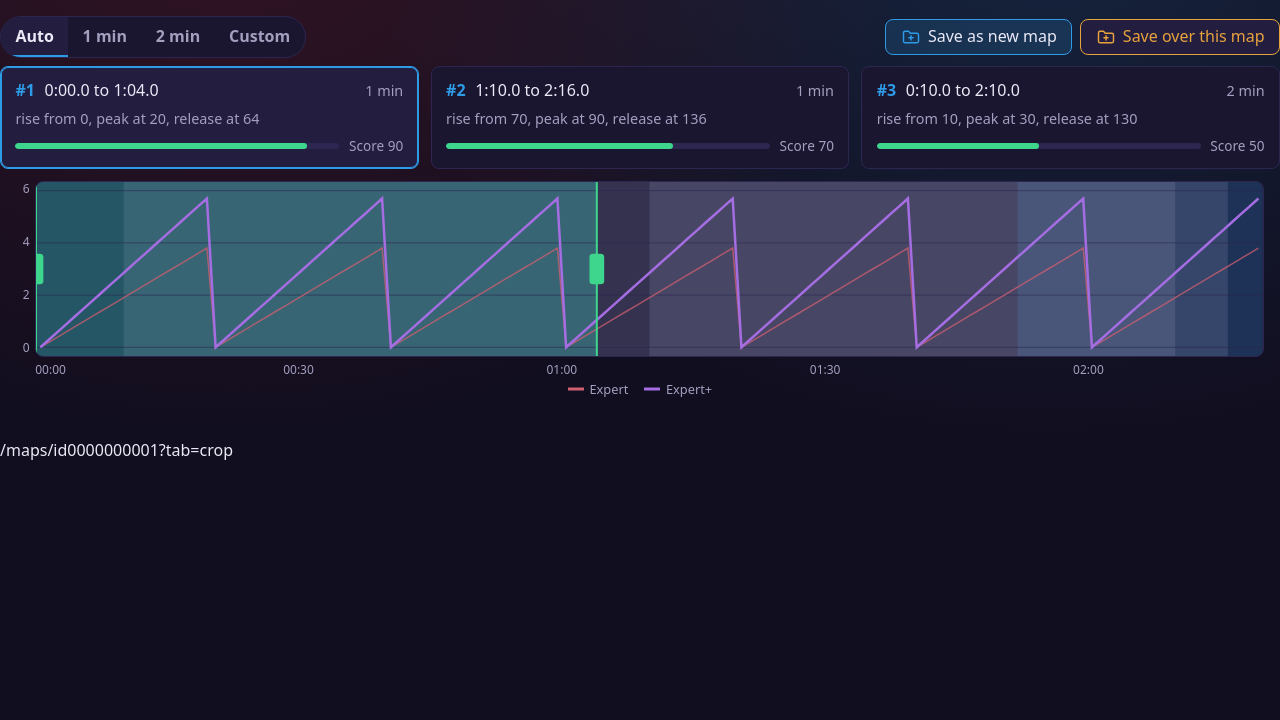
Test: after a crop finishes › the crop state resets: old proposals are gone until new ones load
Click the button "Save over this map" at (1180, 37), box [1080,19,1279,55]
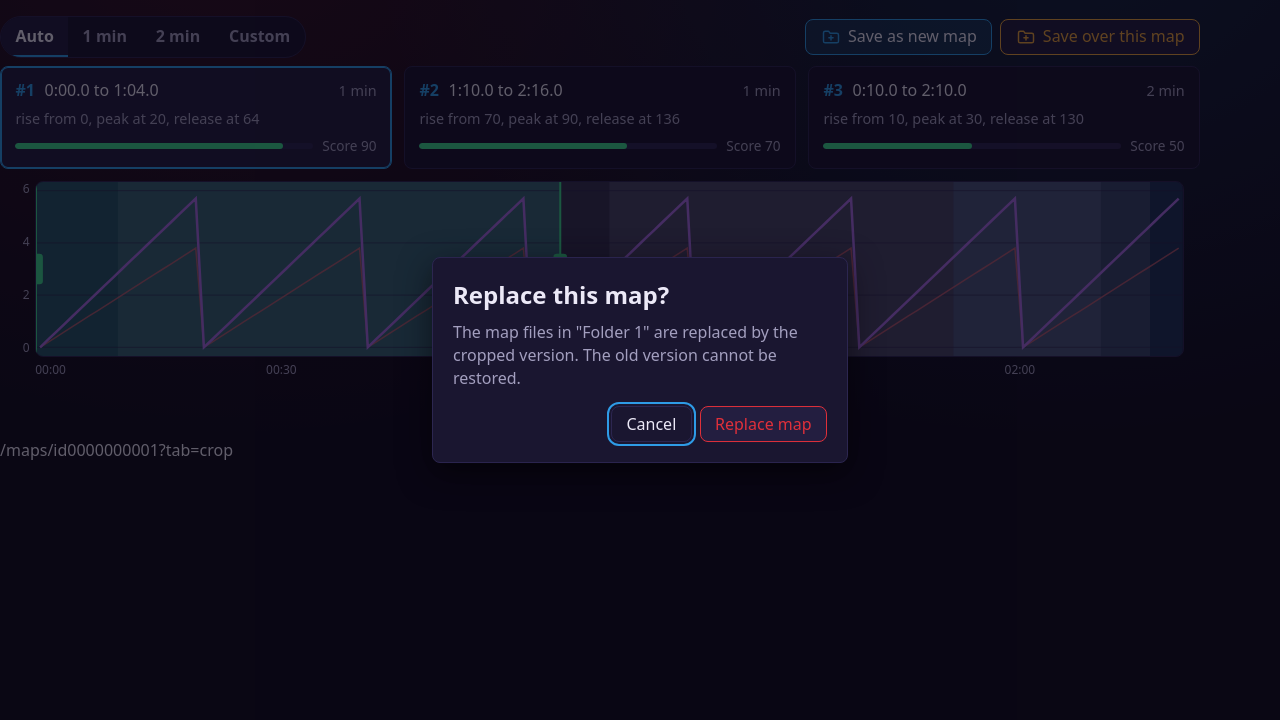
Click the button "Replace map" at (763, 424), box [700,406,827,442]
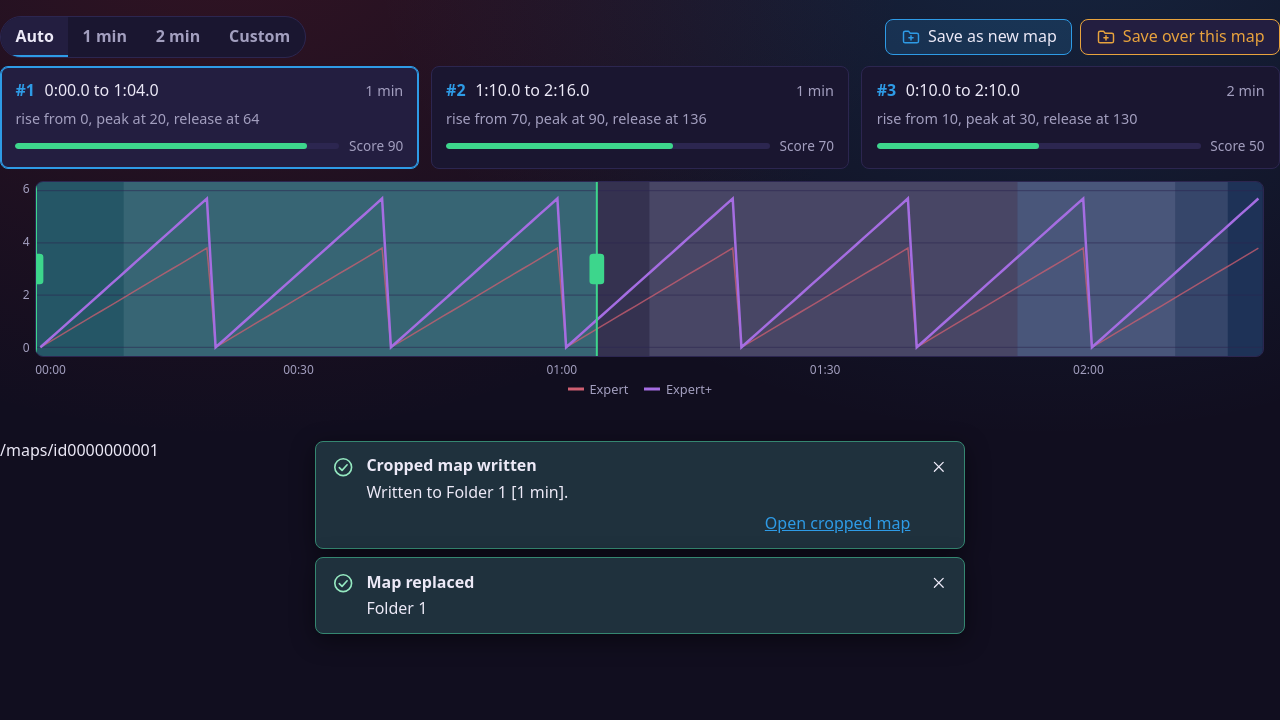
Expected: the radio button labelled "Auto" is checked, [1,17,68,57]
Now the text with test id "where" reads "/maps/id0000000001", box [0,439,159,461]
